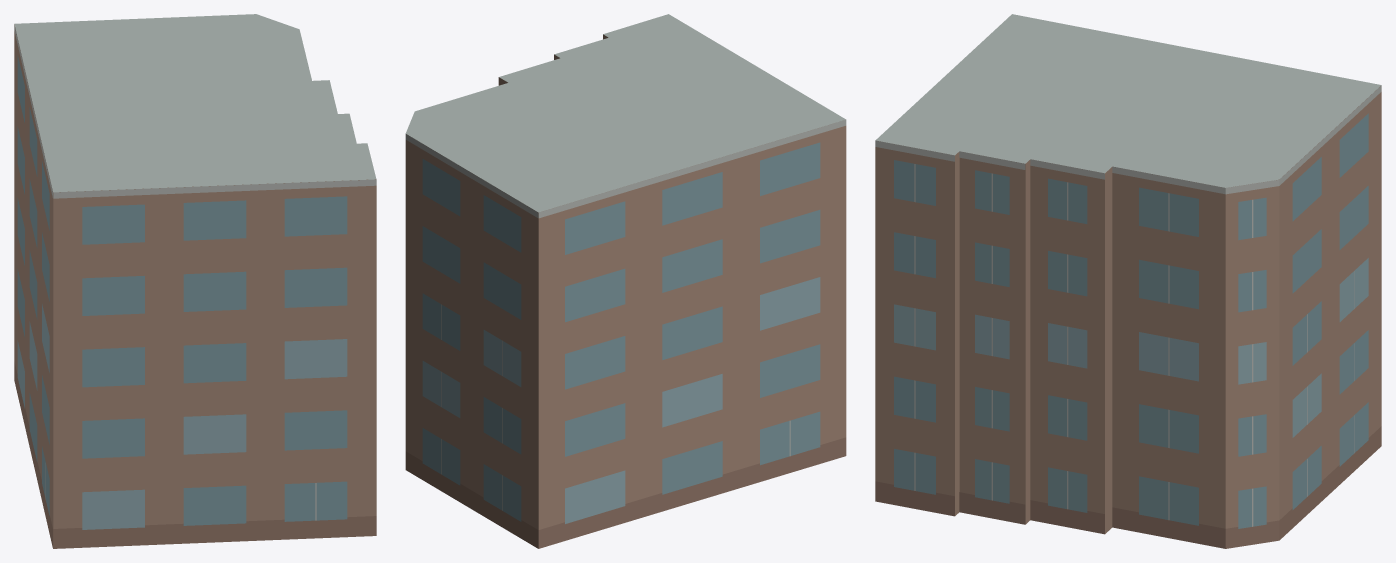
File: survey-upis-32978204.glb
The picture shows the model from 3 angles, left to right: view 1: azimuth 30°, elevation 25°; view 2: azimuth 150°, elevation 25°; view 3: azimuth 270°, elevation 25°; orthographic projection. The views are drawn at different scales.
Parts seen in each view (by area): view 1: survey-upis-32978204.tmp; view 2: survey-upis-32978204.tmp; view 3: survey-upis-32978204.tmp.
Boxes of the visible parts, x1=… form: survey-upis-32978204.tmp: x1=14, y1=14, x2=376, y2=548; survey-upis-32978204.tmp: x1=405, y1=14, x2=846, y2=548; survey-upis-32978204.tmp: x1=875, y1=14, x2=1381, y2=548.
Size of the model in its own units: 14.16 by 13.7 by 17.43.
